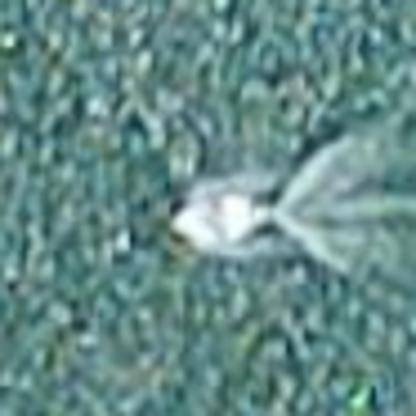ship: (161, 180, 276, 256)
